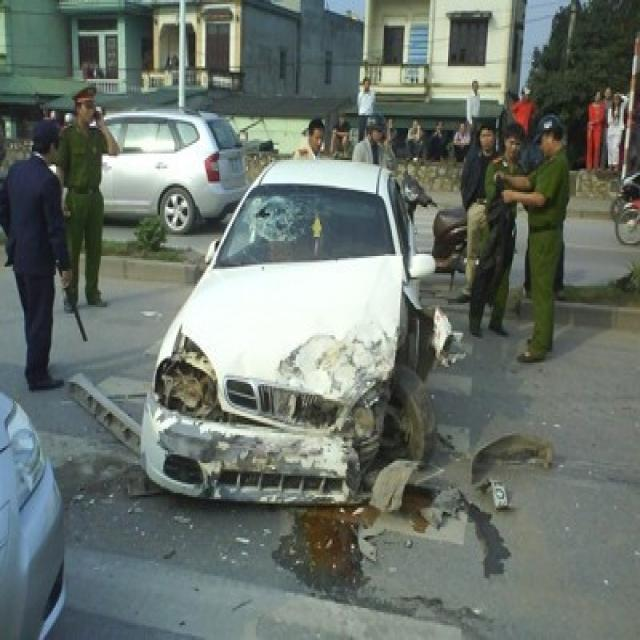accident: (153, 162, 448, 519)
